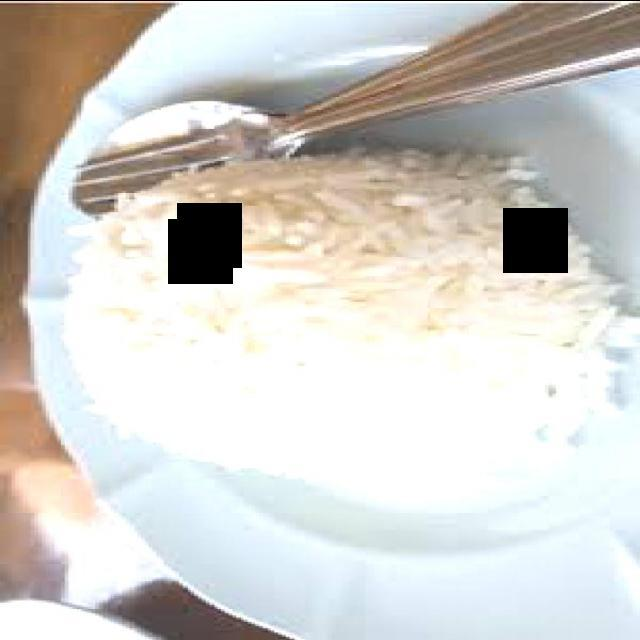rice: (65, 147, 639, 483)
